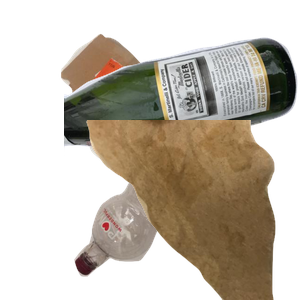cardboard: (58, 31, 222, 188)
glass: (64, 35, 300, 181)
plastic: (72, 142, 273, 300)
trash: (84, 120, 300, 300)
